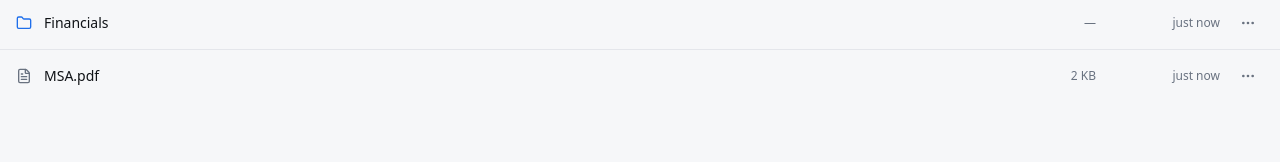
Scenario: NodeTable › hides every mutation action from a viewer
Click the button named "Actions for MSA.pdf" at coordinates (1248, 76), box left=1232, top=60, right=1264, bottom=92
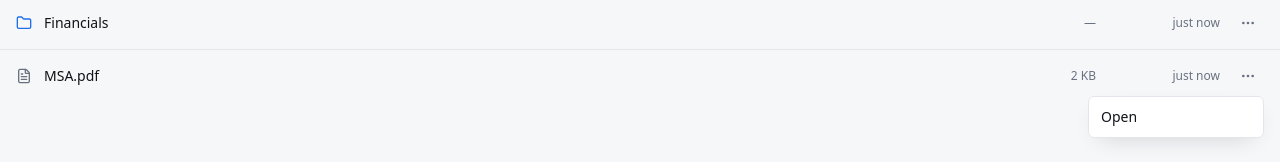
Expected: the menu item "Open" is shown, left=1101, top=107, right=1137, bottom=126
